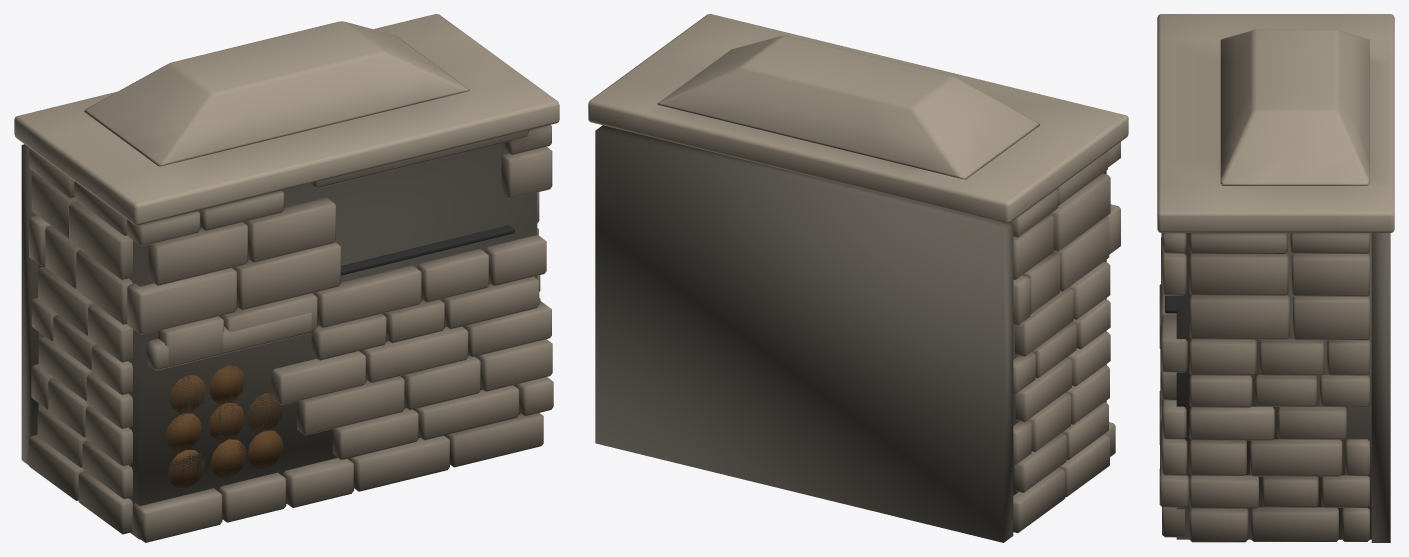
File: barbecue.glb
3 renders of one model, left to right at view 1: azimuth 30°, elevation 25°; view 2: azimuth 150°, elevation 25°; view 3: azimuth 270°, elevation 25°, orthographic. The views are drawn at different scales.
Parts seen in each view (by area): view 1: pierres, couronne, noyau, buches, grille; view 2: noyau, couronne, pierres; view 3: pierres, couronne, noyau.
Part boxes in pixels (left/top/right/bottom): pierres: left=29, top=125, right=553, bottom=542; couronne: left=14, top=14, right=559, bottom=225; noyau: left=21, top=143, right=537, bottom=539; buches: left=166, top=365, right=283, bottom=488; grille: left=341, top=225, right=514, bottom=275; noyau: left=595, top=125, right=1106, bottom=542; couronne: left=588, top=14, right=1128, bottom=223; pierres: left=1011, top=142, right=1120, bottom=533; pierres: left=1159, top=233, right=1369, bottom=542; couronne: left=1157, top=14, right=1394, bottom=232; noyau: left=1176, top=233, right=1390, bottom=542.
Bounding box in the file's own units: 1.2 × 1.05 × 0.6.
